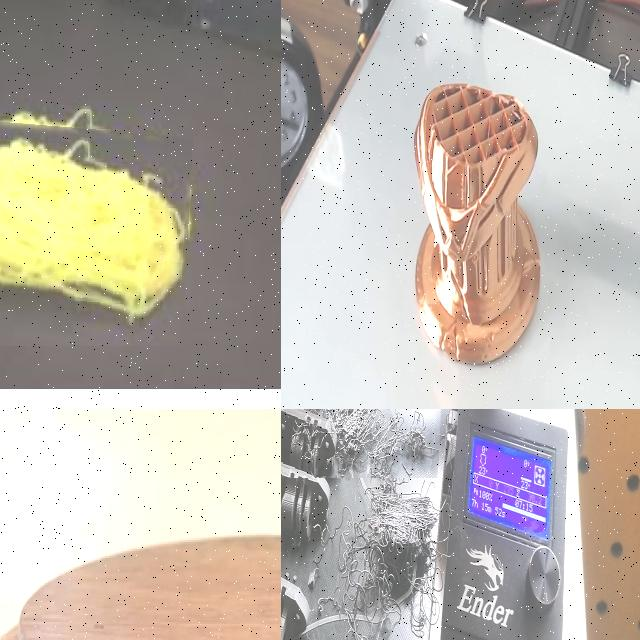spaghetti: (0, 134, 190, 319), (333, 480, 441, 630), (281, 409, 444, 478)
